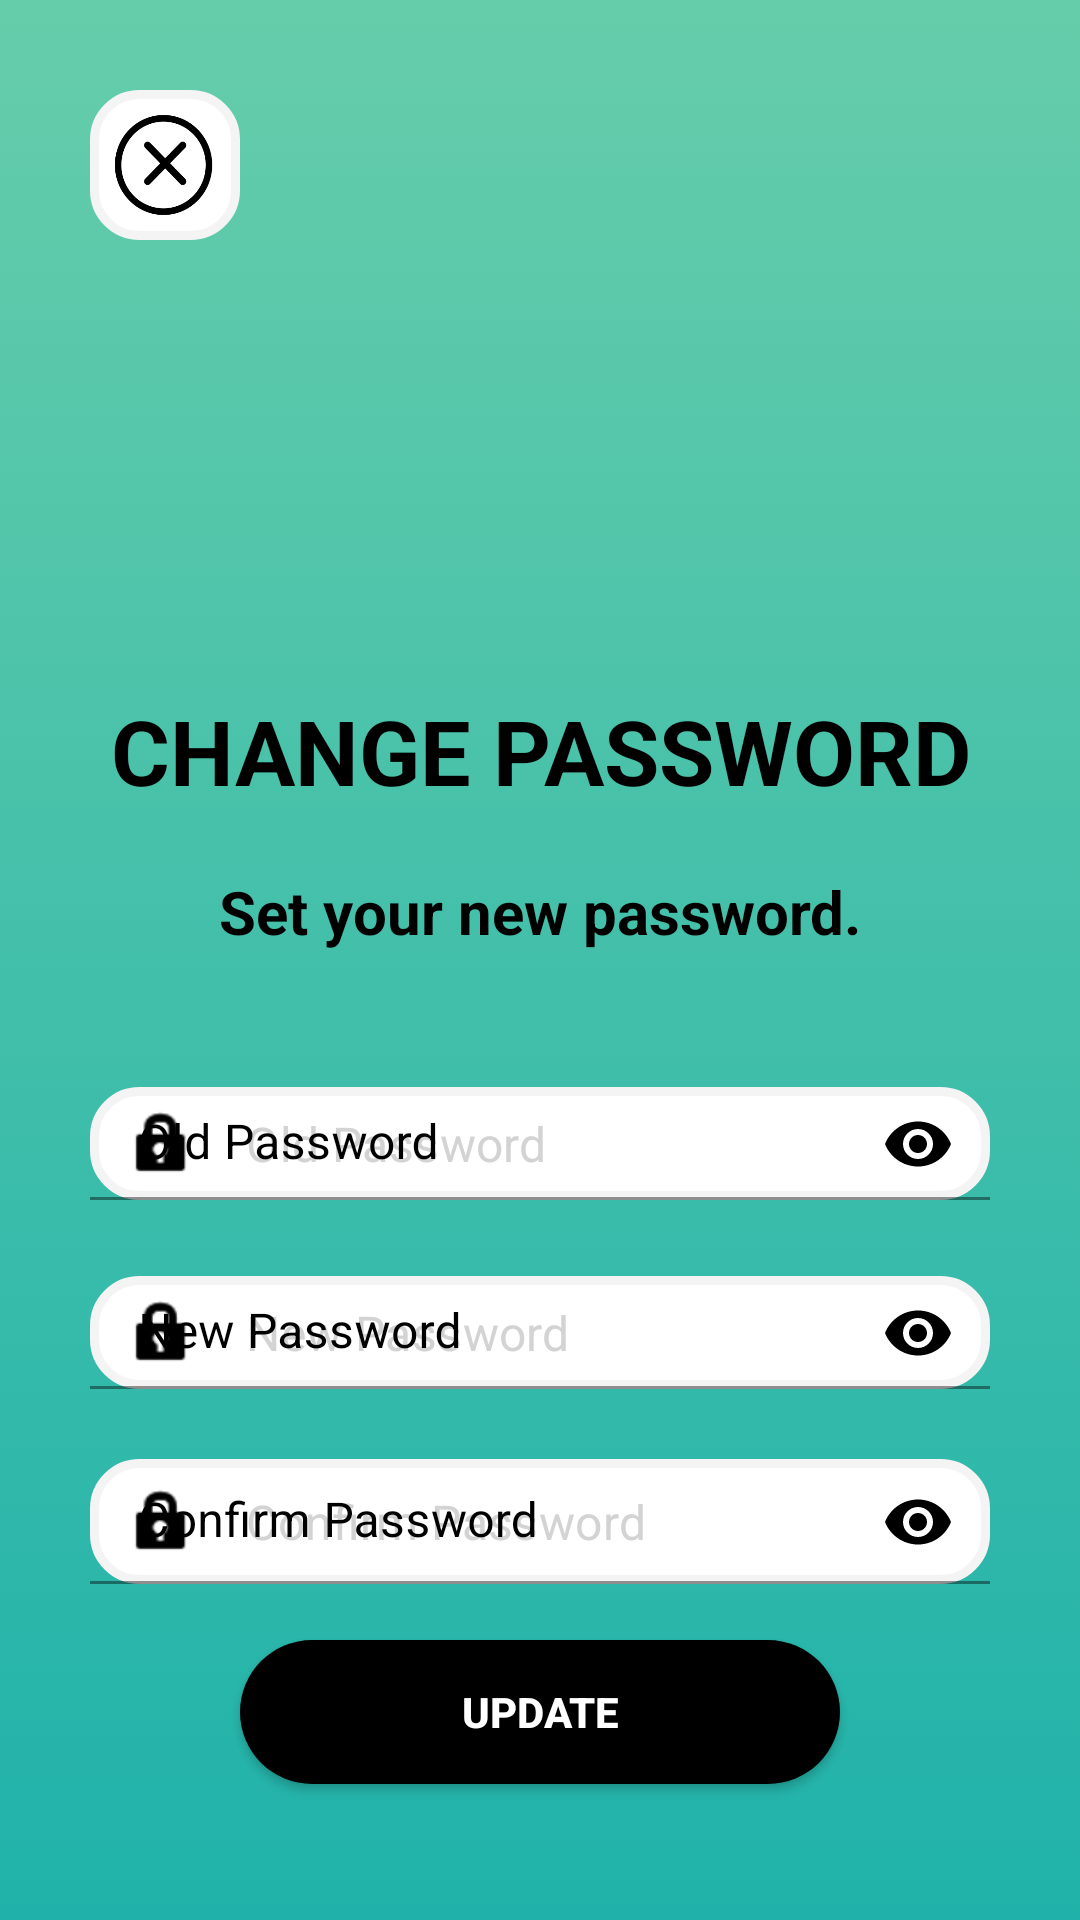

Icons on this 1080px×1920px Android screen, each with the point to tap as (x=x, y=y):
general close: (x=165, y=165)
